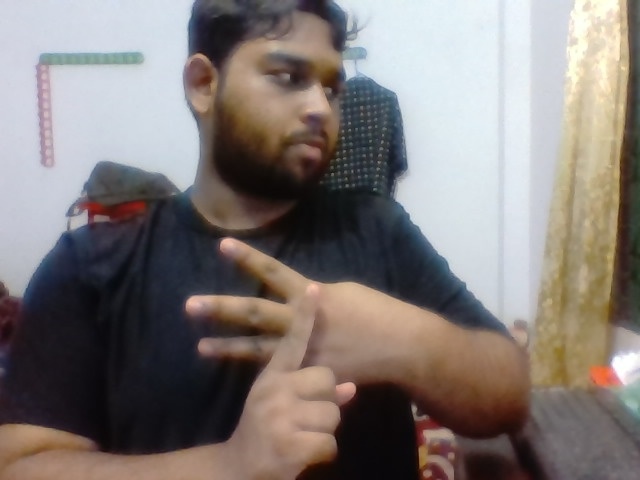E: (173, 225, 389, 472)
